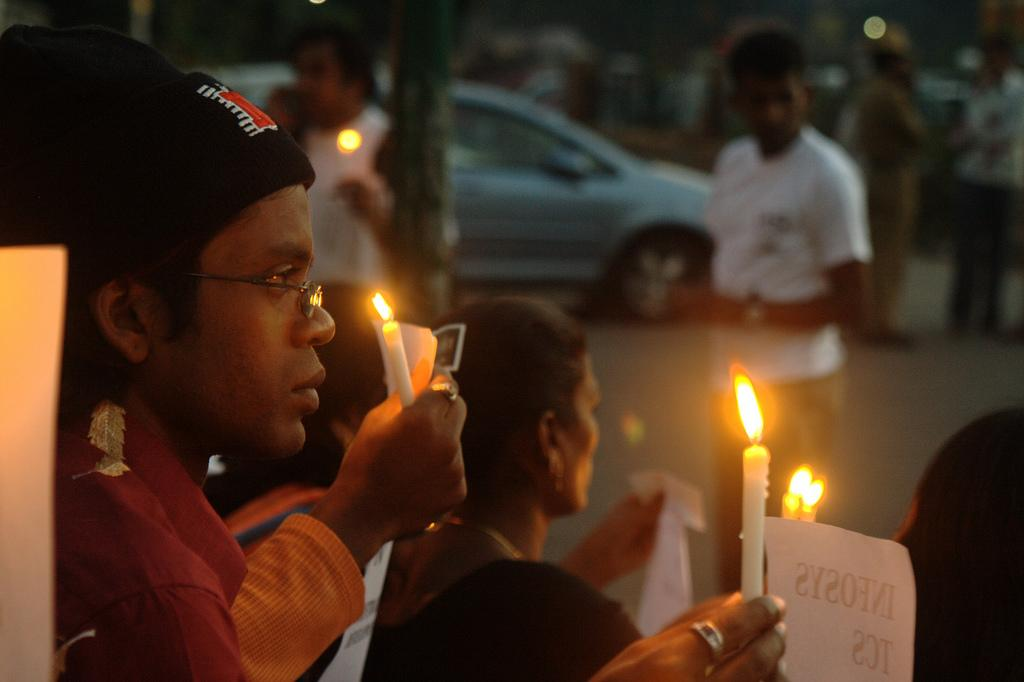fire: (735, 377, 772, 442), (788, 475, 823, 507), (375, 297, 392, 315)
